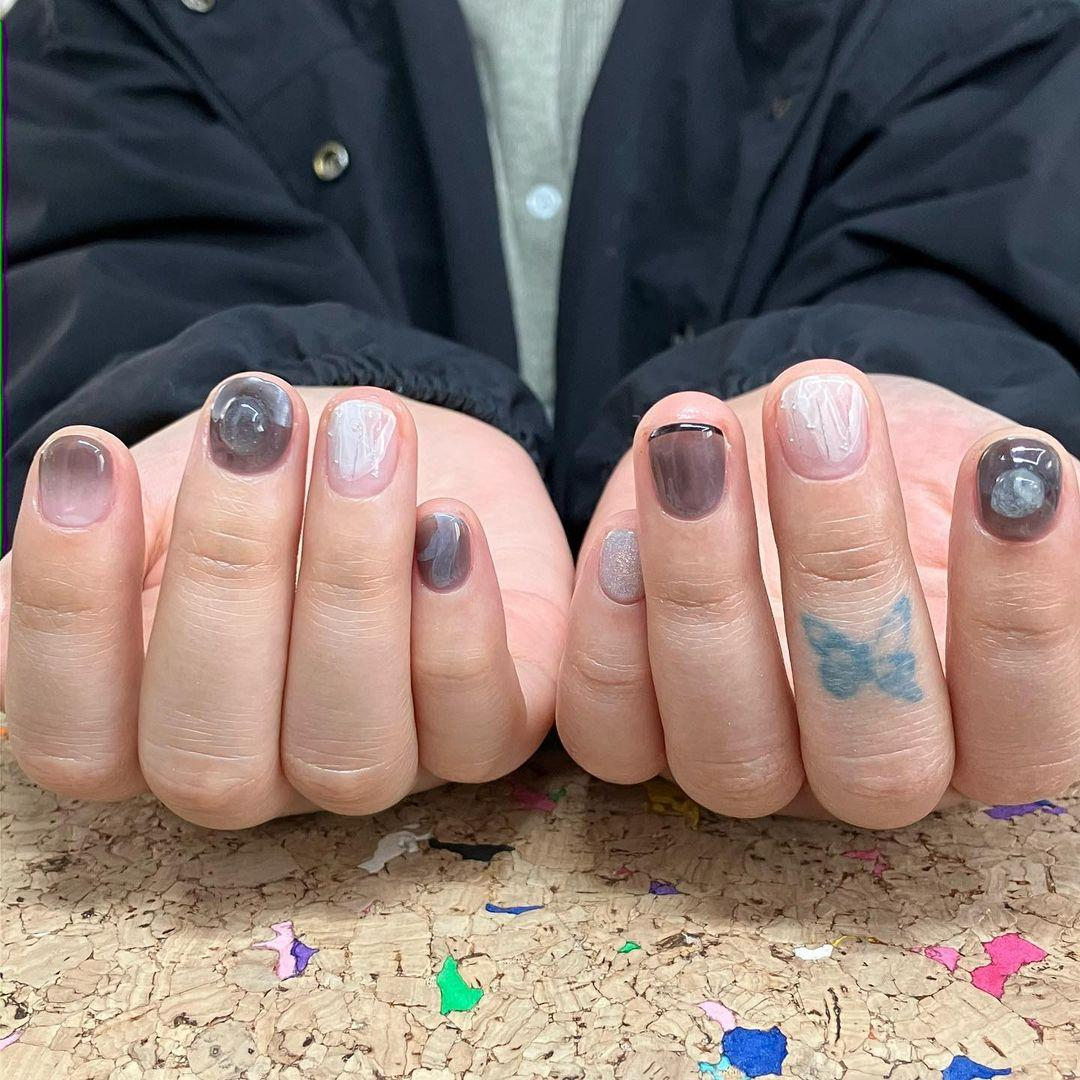nail: (773, 373, 870, 480), (972, 434, 1064, 542), (205, 372, 294, 474), (645, 420, 727, 520), (322, 396, 401, 498), (36, 432, 115, 529), (414, 510, 472, 593), (596, 526, 643, 604)
